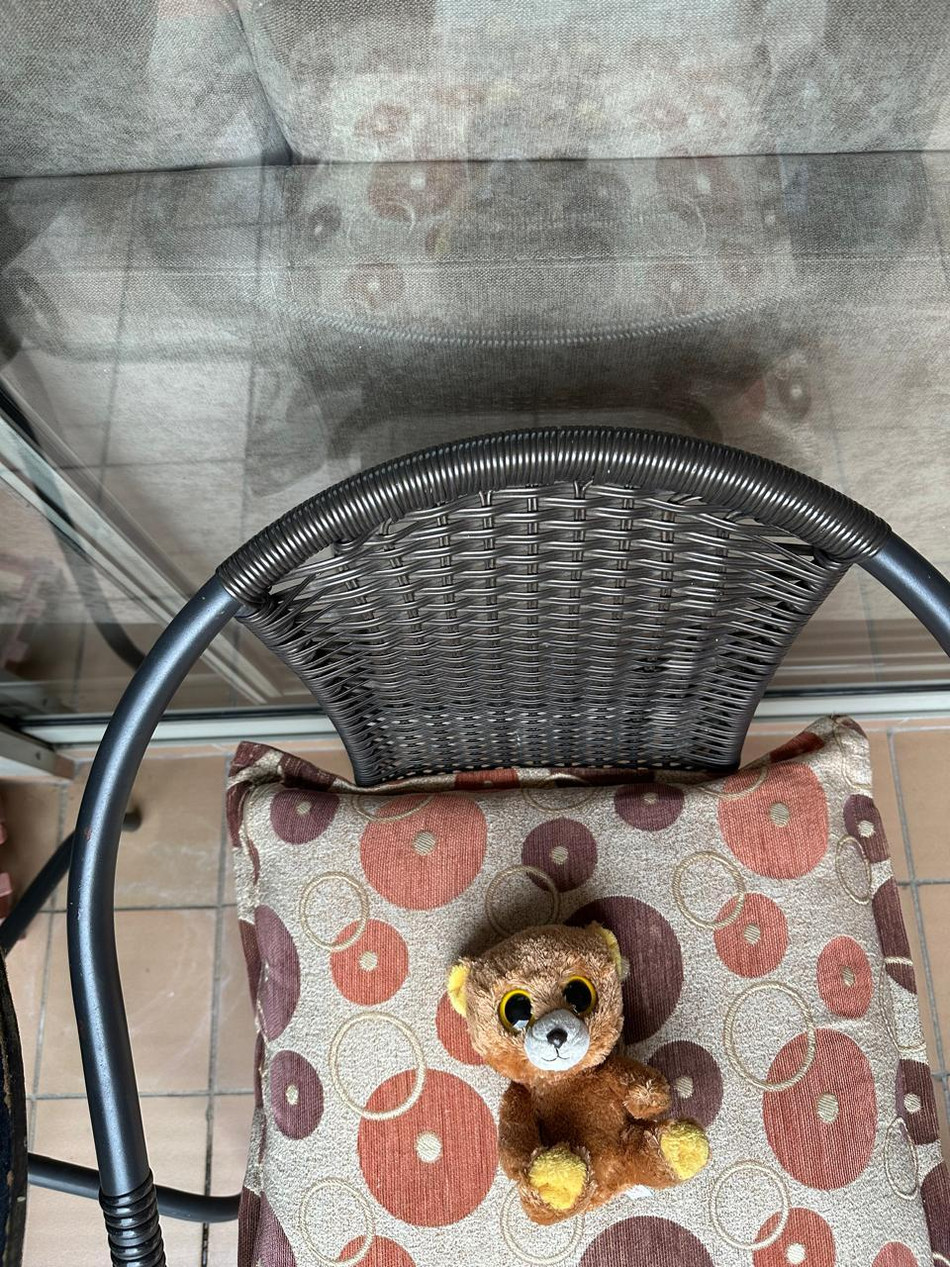peluche_sebastian: (443, 918, 708, 1225)
